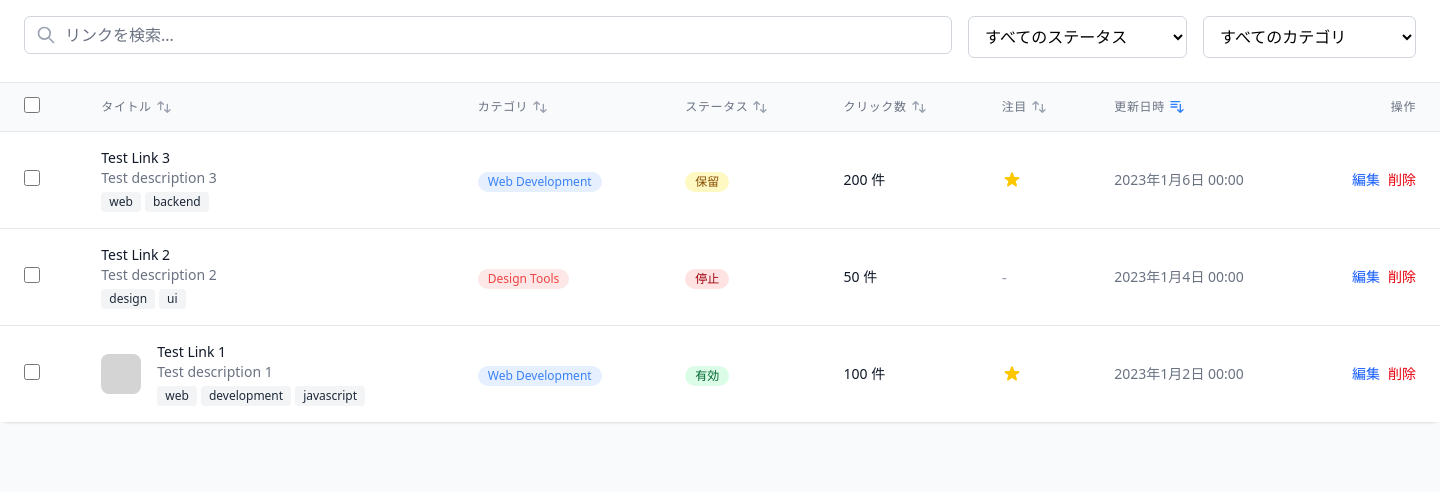
Test: LinkManagementTable › handles select all functionality
Click select all checkbox
Click the checkbox next to "タイトル". click: coordinates (32, 105)
box: [24,97,40,113]
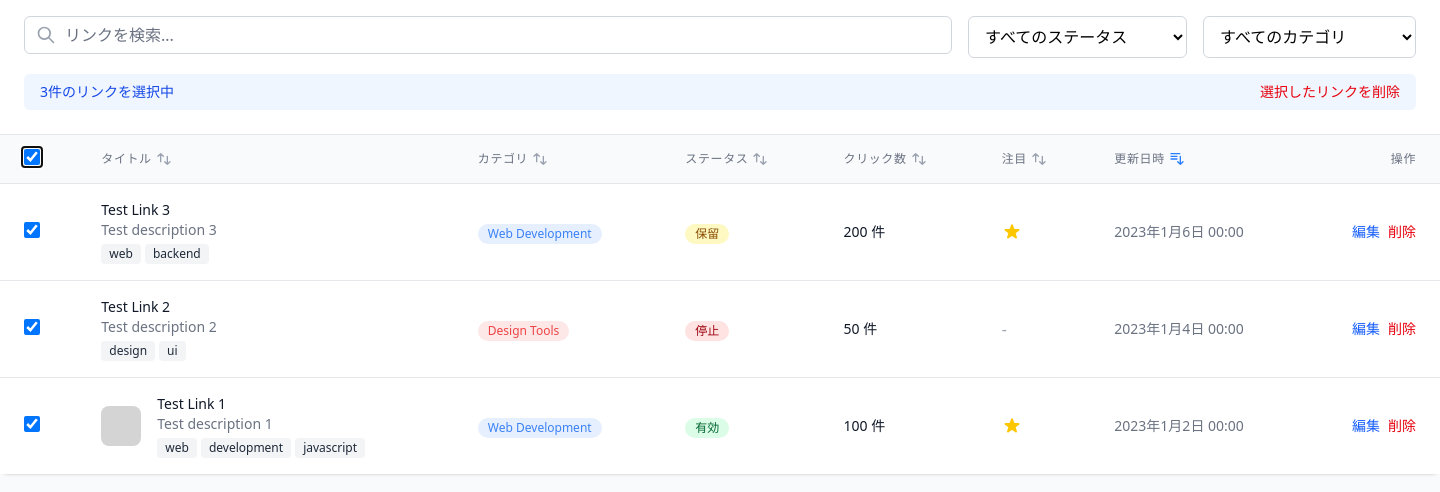
Result: the text "3件のリンクを選択中" is shown at [40,82,174,102]
